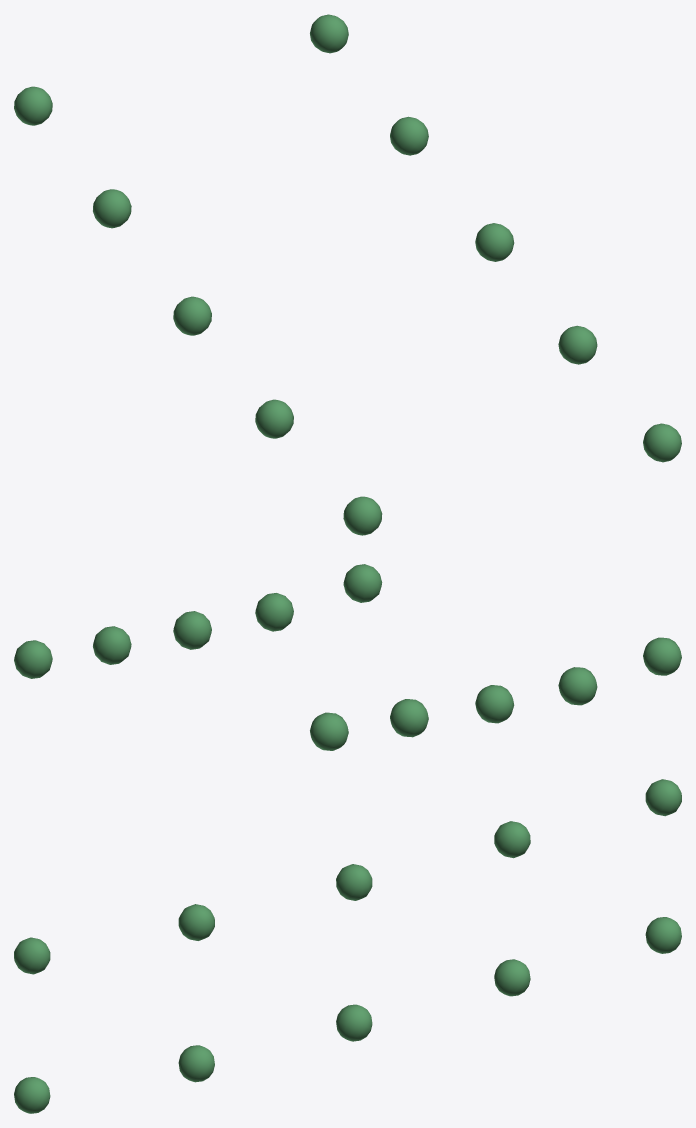
3 views of the same model, one above another, from view 1: azimuth 30°, elevation 25°; view 2: azimuth 150°, elevation 25°; view 3: azimuth 270°, elevation 25° (orthographic). The views are drawn at different scales.
Visible parts, largest first — view 1: 胸部气管旁淋巴结; view 2: 胸部气管旁淋巴结; view 3: 胸部气管旁淋巴结.
Part boxes in pixels (bbox=[...]): 胸部气管旁淋巴结: bbox=[14, 14, 681, 535]; 胸部气管旁淋巴结: bbox=[14, 564, 681, 750]; 胸部气管旁淋巴结: bbox=[14, 779, 681, 1113].
Size of the model in its own units: 0.0381 by 0.0218 by 0.0686.
